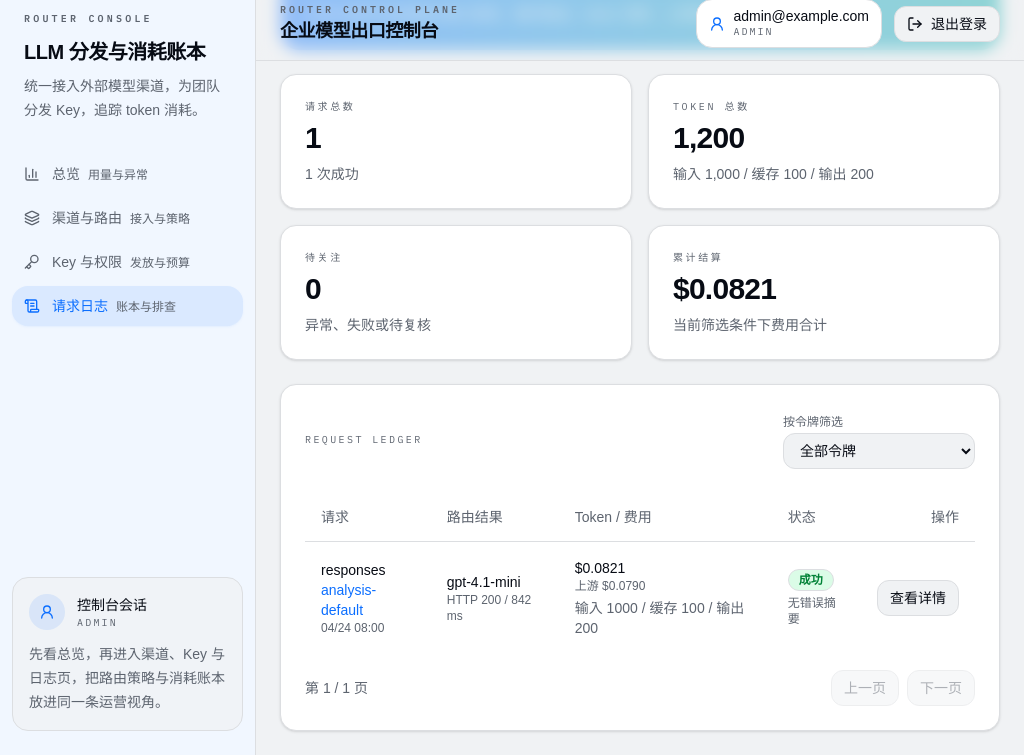
LogsRouteComponent › opens the log detail drawer on top of the ledger when operators inspect a request
The image size is (1024, 755).
(page scrolled)
Step 1. Click the button "查看详情" → (918, 598), box [877,580,959,616]
(page scrolled)
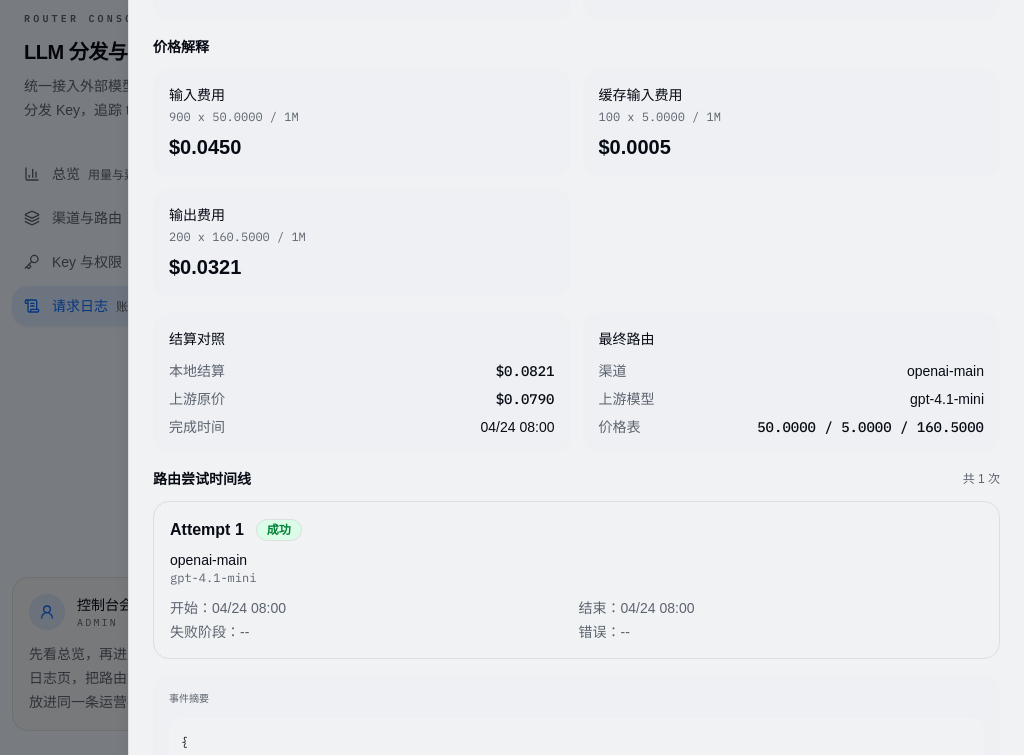
expect the heading "价格解释" is shown: met, box [153,39,209,55]
expect the 1st text "openai-main" is shown: met, box [907,361,984,381]
